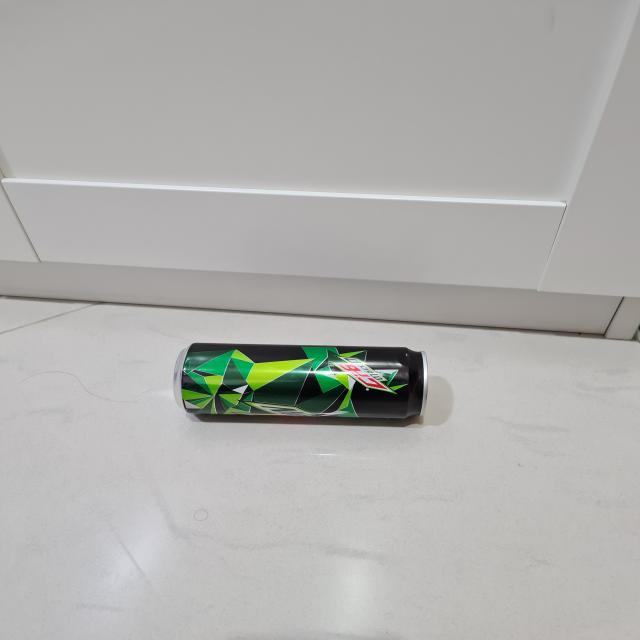non-organic waste: (176, 343, 431, 426)
